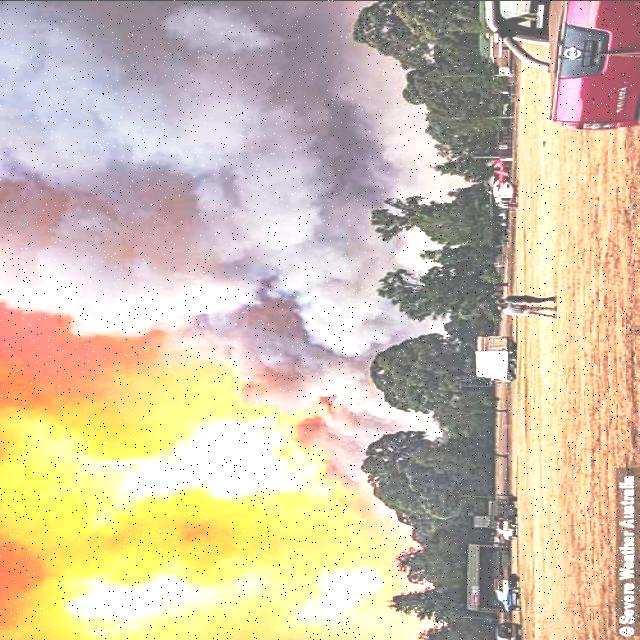api: (61, 426, 293, 519), (303, 558, 406, 616), (78, 586, 162, 615)
asap: (4, 3, 427, 333), (1, 340, 391, 419), (2, 514, 300, 591), (292, 416, 394, 502)
